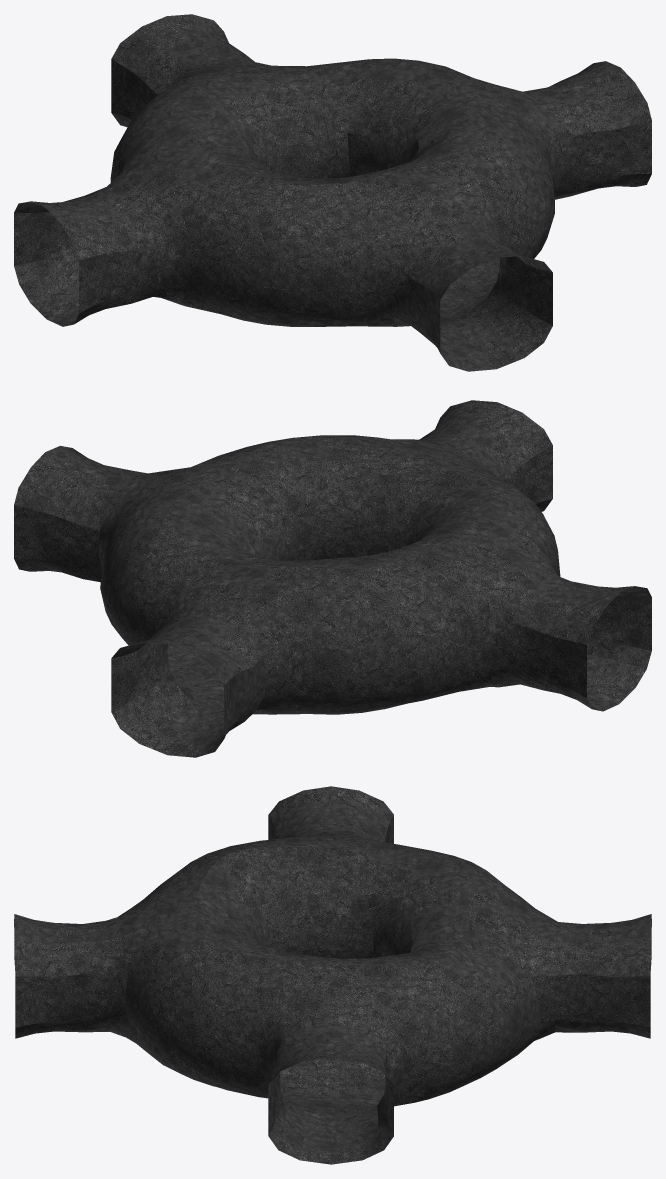
File: CaveRoundaboutIntersection.glb
The picture shows the model from 3 angles, top to bottom: view 1: azimuth 30°, elevation 25°; view 2: azimuth 150°, elevation 25°; view 3: azimuth 270°, elevation 25°; orthographic projection. The views are drawn at different scales.
Visible parts, largest first — view 1: Cube.118; view 2: Cube.118; view 3: Cube.118.
Part boxes in pixels (bbox=[...]): Cube.118: bbox=[14, 14, 651, 371]; Cube.118: bbox=[14, 400, 651, 757]; Cube.118: bbox=[14, 786, 651, 1164].
Bounding box in the file's own units: 38.77 × 9.1 × 38.56.
Materials: 1 (1 with a texture image).
